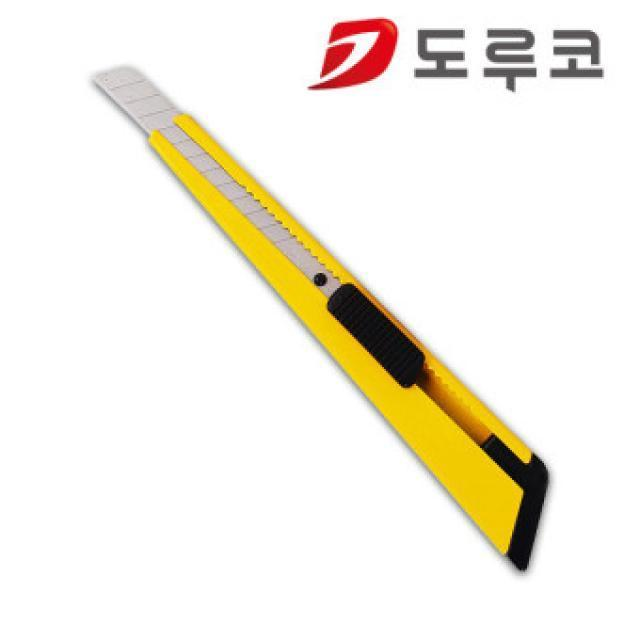cutter: (76, 49, 575, 575)
